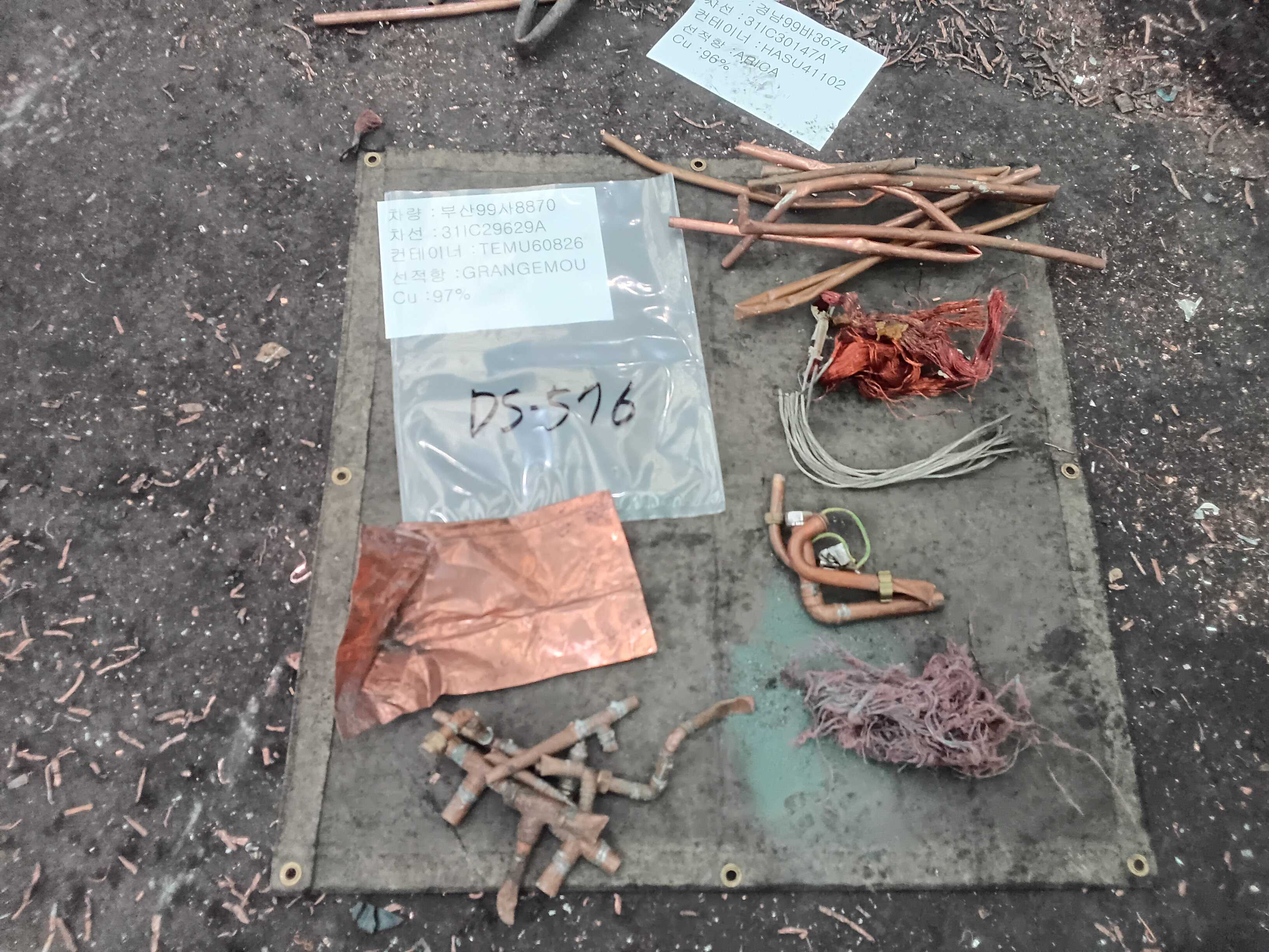Brass_Attach_70: (787, 513, 940, 602)
Burnt_Wire: (799, 646, 1038, 779)
Clean_Copper_Tubes_98: (734, 192, 1109, 269)
Copper_Plates_93: (335, 489, 661, 736)
Thin_Enamled_Wire_89: (821, 290, 1018, 401)
Tinned_Wire_90: (777, 388, 1019, 490)
